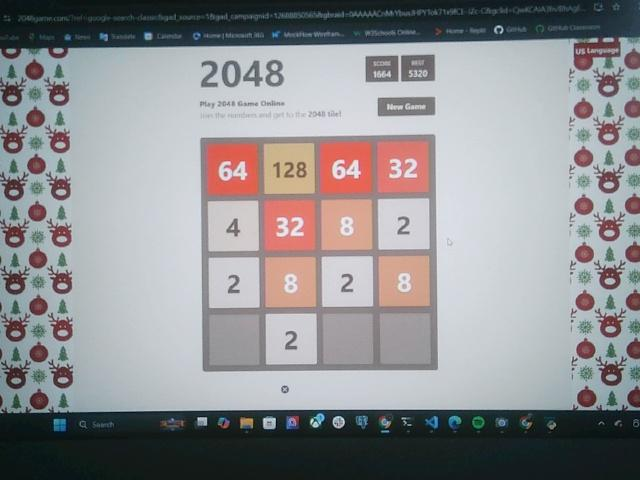best_score_box: (402, 55, 435, 83)
button: (378, 97, 435, 116)
score_box: (365, 55, 399, 82)
